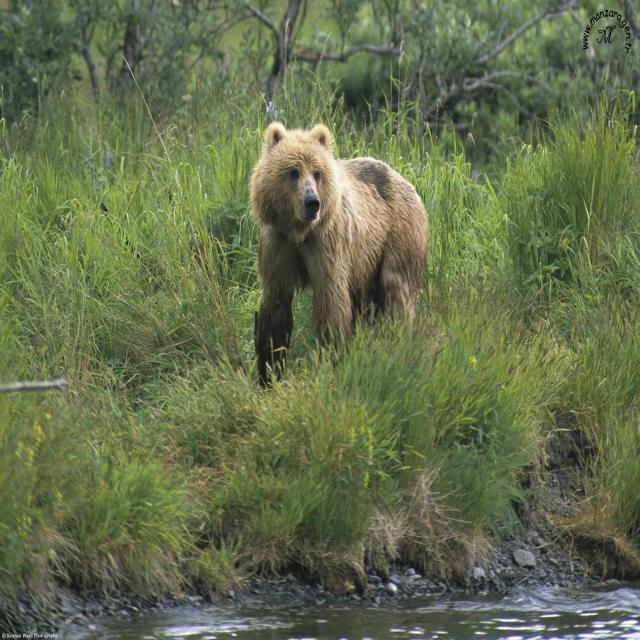Bear: (248, 123, 430, 388)
